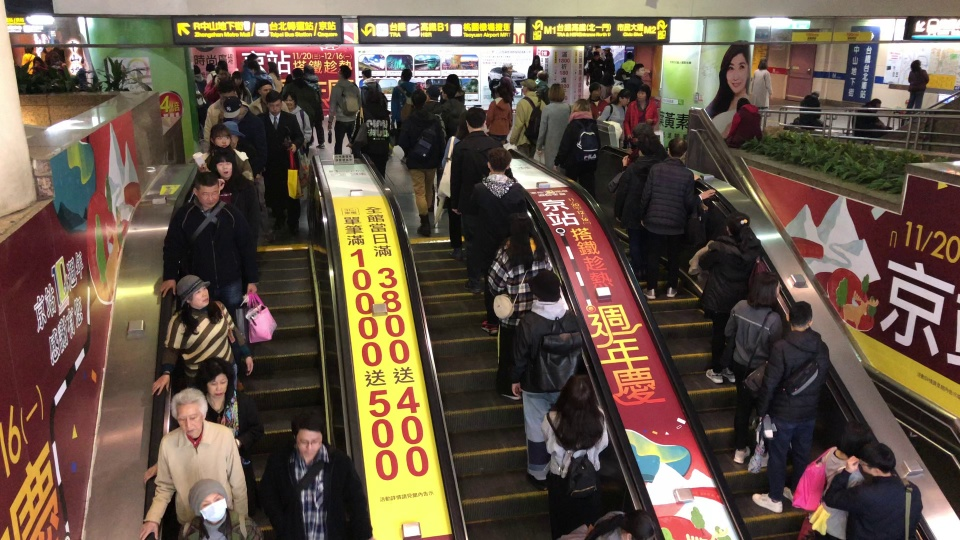person_head: (173, 388, 207, 437), (187, 478, 230, 511), (292, 418, 323, 457), (200, 357, 230, 397), (858, 444, 895, 476), (530, 270, 561, 302), (180, 275, 210, 307), (193, 172, 218, 207), (786, 301, 814, 329), (566, 374, 592, 403), (213, 150, 239, 178), (484, 148, 513, 172), (725, 212, 751, 236), (756, 273, 780, 298), (465, 106, 489, 130), (835, 437, 865, 456), (208, 124, 230, 148), (264, 90, 283, 116), (224, 120, 241, 148), (667, 138, 688, 160), (513, 214, 534, 234), (633, 124, 656, 141), (225, 95, 245, 114), (216, 80, 234, 98), (639, 141, 659, 157), (410, 89, 426, 108), (257, 78, 274, 95), (636, 83, 652, 101), (549, 83, 566, 99), (283, 92, 299, 107), (618, 89, 632, 106), (588, 83, 602, 98), (522, 79, 536, 94), (426, 85, 439, 101), (573, 98, 590, 110), (631, 63, 645, 76), (338, 65, 351, 78), (447, 74, 460, 87), (399, 69, 413, 81), (215, 67, 227, 79), (291, 67, 303, 79), (267, 60, 278, 73), (441, 85, 451, 99), (615, 68, 626, 80), (537, 70, 549, 81), (232, 71, 242, 84), (303, 64, 315, 74), (246, 53, 259, 62), (33, 55, 43, 66), (361, 68, 372, 78), (873, 98, 881, 111), (737, 97, 750, 105), (23, 44, 34, 53), (491, 89, 502, 98), (251, 64, 261, 73), (531, 55, 541, 64), (193, 64, 201, 75), (205, 63, 214, 72), (759, 58, 768, 67), (217, 60, 228, 67), (605, 56, 614, 64), (501, 66, 510, 73), (914, 59, 922, 66), (813, 89, 820, 97), (51, 53, 60, 59), (53, 39, 59, 46), (593, 51, 600, 57)
person_vbox: (746, 301, 831, 513), (135, 388, 248, 540), (502, 270, 583, 480), (156, 172, 265, 298), (147, 275, 256, 396), (692, 212, 768, 383), (259, 419, 366, 540), (638, 137, 716, 300), (536, 374, 610, 539), (724, 273, 787, 463), (493, 214, 555, 400), (448, 106, 520, 259), (823, 443, 924, 540), (462, 148, 527, 292), (398, 89, 440, 237), (619, 142, 656, 284), (819, 437, 868, 539), (200, 367, 259, 449), (178, 478, 251, 540), (551, 98, 601, 188), (213, 151, 263, 238), (252, 90, 304, 171), (534, 83, 575, 169), (197, 124, 255, 182), (290, 67, 325, 150), (327, 64, 359, 154), (622, 83, 661, 155), (202, 83, 250, 141), (509, 79, 543, 158), (224, 95, 258, 152), (725, 97, 763, 147), (390, 69, 422, 125), (485, 89, 514, 145), (596, 89, 632, 132), (249, 79, 290, 113), (906, 59, 931, 112), (861, 98, 894, 136), (801, 89, 832, 128), (750, 57, 773, 109), (447, 73, 469, 119), (499, 65, 520, 113), (203, 67, 233, 99), (440, 85, 457, 136), (587, 85, 609, 119), (51, 53, 71, 88), (533, 70, 553, 104), (232, 71, 253, 103), (303, 64, 324, 95), (585, 51, 603, 86), (266, 60, 284, 92), (360, 68, 382, 93), (526, 55, 548, 79), (48, 39, 68, 63), (630, 63, 646, 91), (21, 44, 36, 73), (32, 55, 49, 80), (426, 85, 441, 112), (603, 56, 614, 92), (204, 62, 217, 83), (194, 63, 205, 87)
